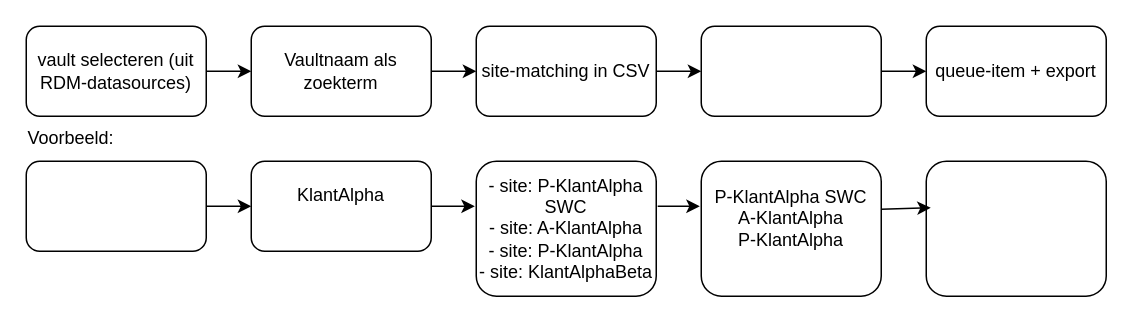
The diagram is 1133 pixels wide and 323 high, and some of its shapes have lost their labels. Each missing label, with the centre of its shape:
C:\Temp\KlantAlpha: [1015,228]
KlantAlpha NV: [115,205]
site-selectie: [790,70]
